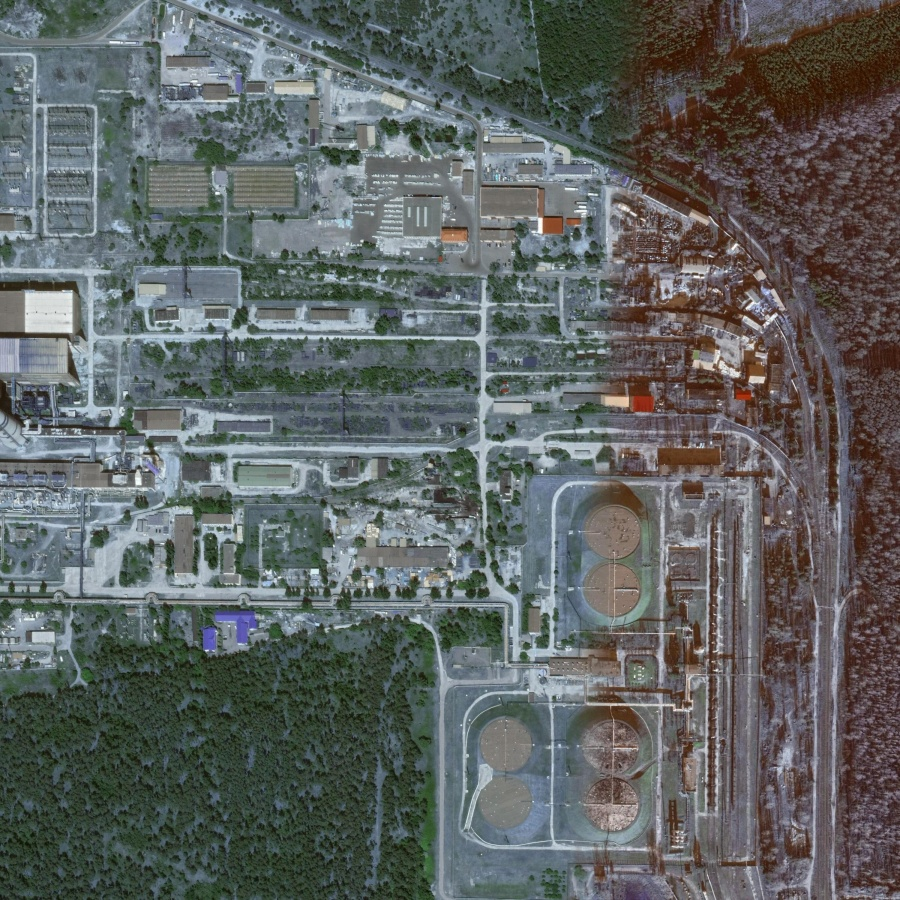PowerPlant: (439, 493, 687, 856)
